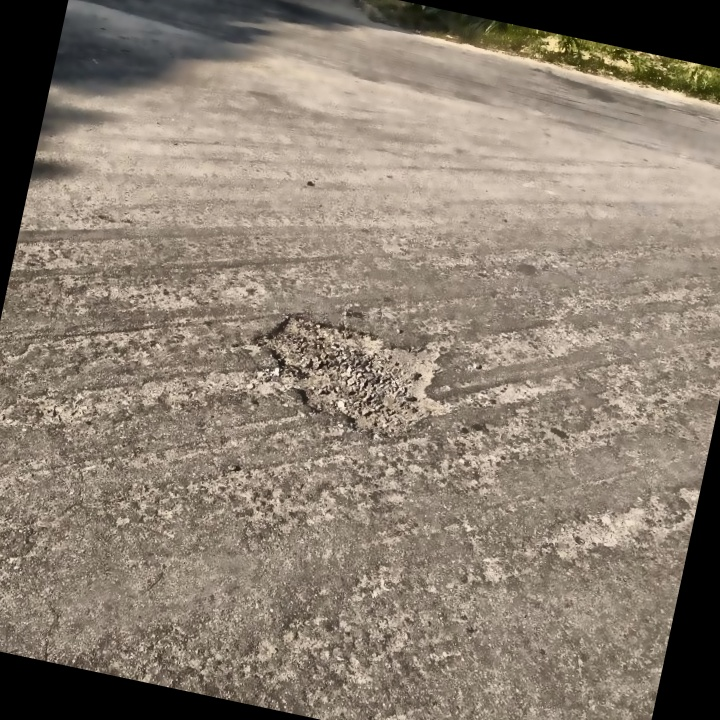pothole: (235, 299, 467, 451)
